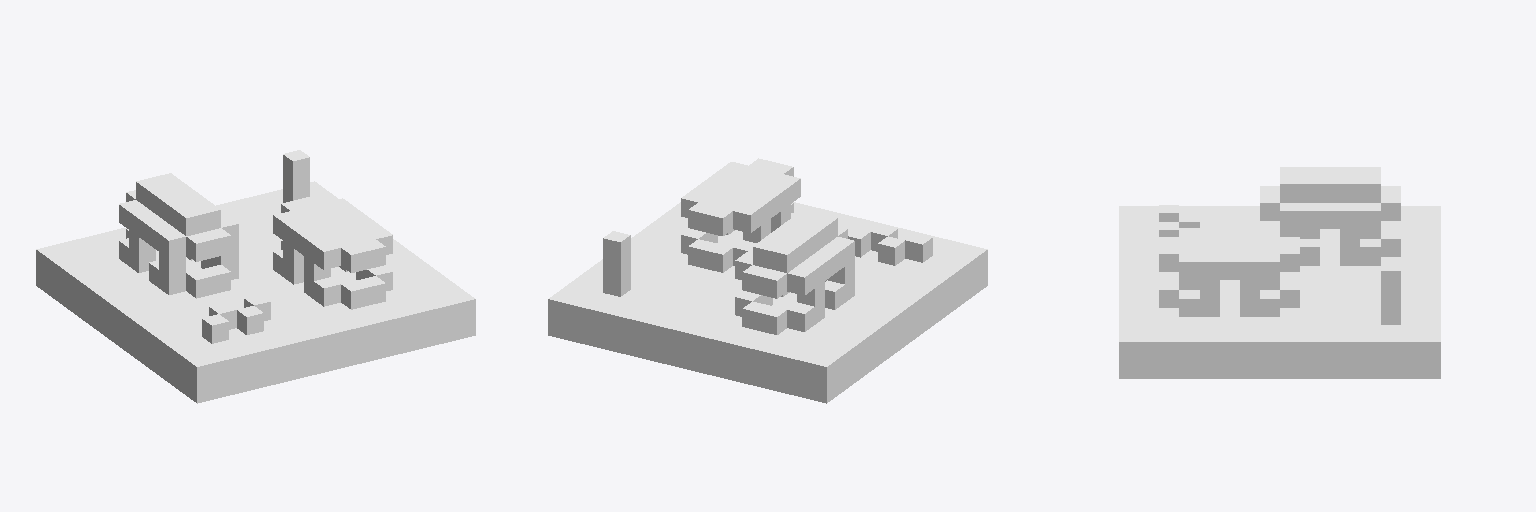
The model's file is Castle_field_1.obj.
The picture shows the model from 3 angles: view 1: azimuth 30°, elevation 25°; view 2: azimuth 150°, elevation 25°; view 3: azimuth 270°, elevation 25°; orthographic projection.
Visible parts, largest first — view 1: object 1; view 2: object 1; view 3: object 1.
Part boxes in pixels (left/top/right/bottom): object 1: left=36, top=150, right=475, bottom=403; object 1: left=548, top=158, right=987, bottom=403; object 1: left=1119, top=167, right=1440, bottom=378.
Bounding box in the file's own units: 1.6 × 0.6 × 1.6.